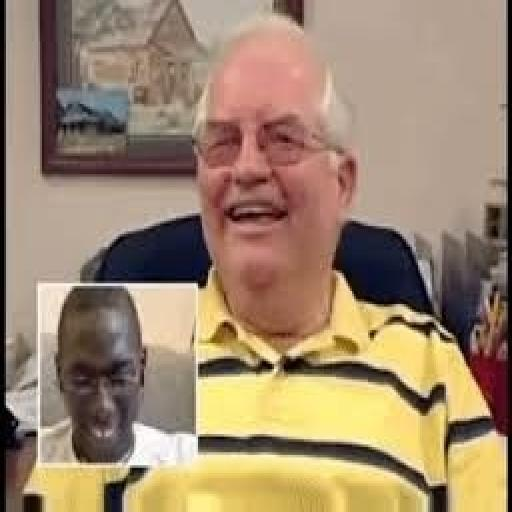laughing: (32, 10, 502, 507)
